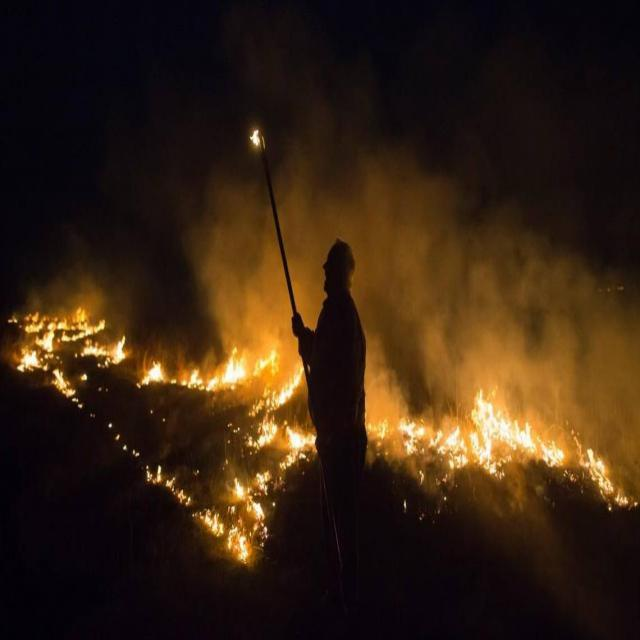Fire: (7, 306, 127, 408), (468, 386, 566, 484), (139, 340, 280, 390), (229, 470, 270, 560), (582, 444, 632, 512), (144, 464, 192, 506), (282, 422, 316, 470), (266, 372, 304, 411), (432, 428, 467, 470), (399, 414, 426, 456), (248, 416, 278, 452), (198, 509, 225, 536), (366, 410, 388, 442), (249, 127, 266, 150)
